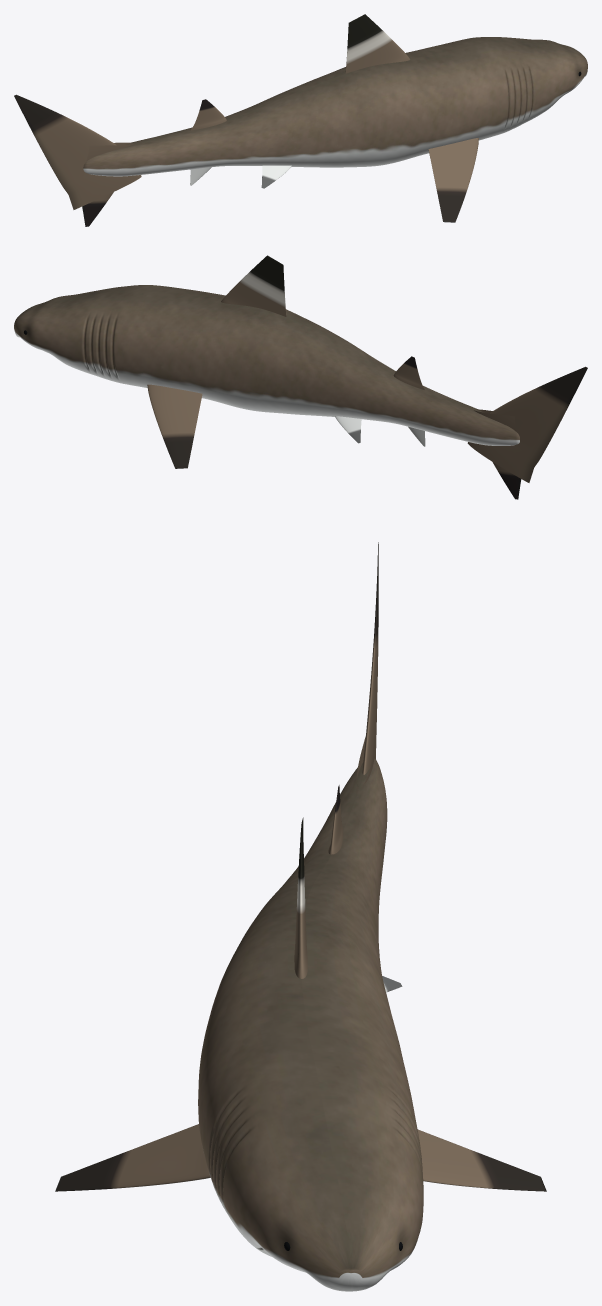
The model's file is blacktip_reef_shark.glb.
3 views of the same model, one above another, from view 1: azimuth 30°, elevation 25°; view 2: azimuth 150°, elevation 25°; view 3: azimuth 270°, elevation 25° (orthographic). The views are drawn at different scales.
Visible parts, largest first — view 1: BlacktipReefShark_Body, BlacktipReefShark_Fins; view 2: BlacktipReefShark_Body, BlacktipReefShark_Fins; view 3: BlacktipReefShark_Body, BlacktipReefShark_Fins.
Boxes of the visible parts, bbox=[...] form: BlacktipReefShark_Body: bbox=[83, 37, 587, 176]; BlacktipReefShark_Fins: bbox=[14, 14, 478, 226]; BlacktipReefShark_Body: bbox=[14, 285, 519, 445]; BlacktipReefShark_Fins: bbox=[147, 255, 587, 499]; BlacktipReefShark_Body: bbox=[198, 758, 423, 1291]; BlacktipReefShark_Fins: bbox=[55, 542, 546, 1191].
Bounding box in the file's own units: 1.6 × 0.4618 × 0.6038.
3 materials, 1 textured.
